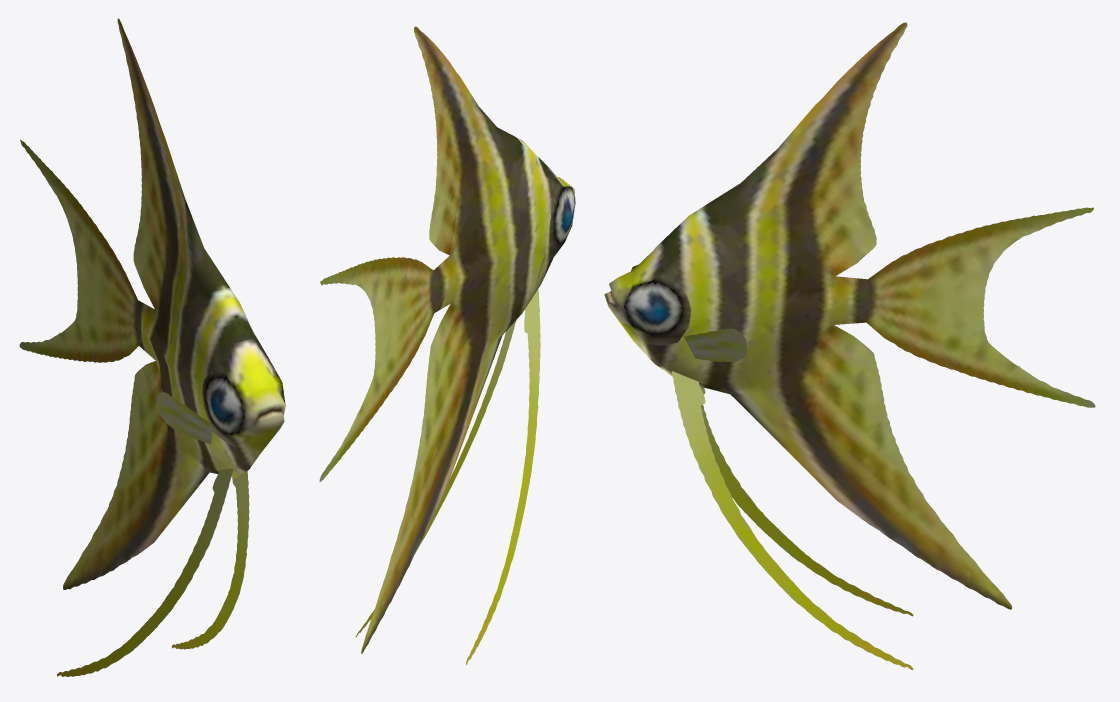
The model's file is angelfish.glb.
3 views of the same model, side by side, from view 1: azimuth 30°, elevation 25°; view 2: azimuth 150°, elevation 25°; view 3: azimuth 270°, elevation 25° (orthographic). The views are drawn at different scales.
Bounding box in the file's own units: 1.01 × 5.34 × 3.76.
Materials: 1 (1 with a texture image).
